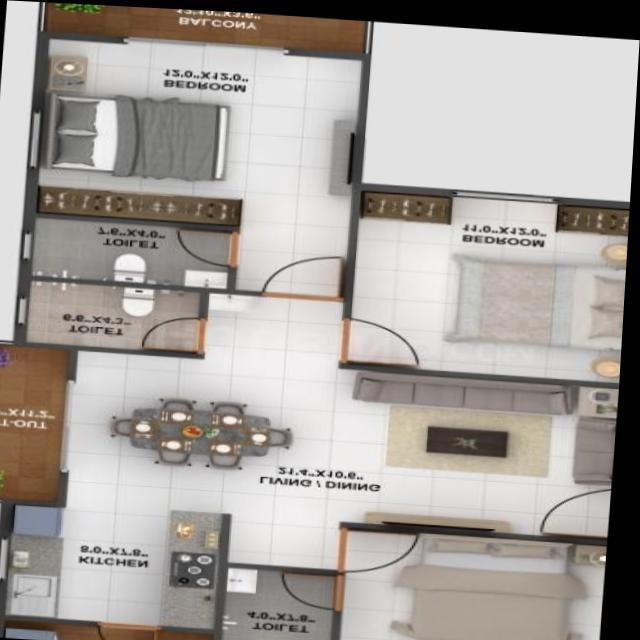Balcony-Sitout: (32, 1, 374, 55), (0, 343, 79, 503)
Bedroom: (346, 178, 632, 383), (335, 514, 613, 640)
Bedroom with Toilet: (20, 29, 373, 298)
Dining: (105, 389, 303, 470)
Kitchen: (0, 497, 229, 622)
Living: (339, 357, 623, 539)
Toilet: (16, 272, 213, 356), (214, 558, 352, 640)
Utility: (0, 613, 227, 640)
